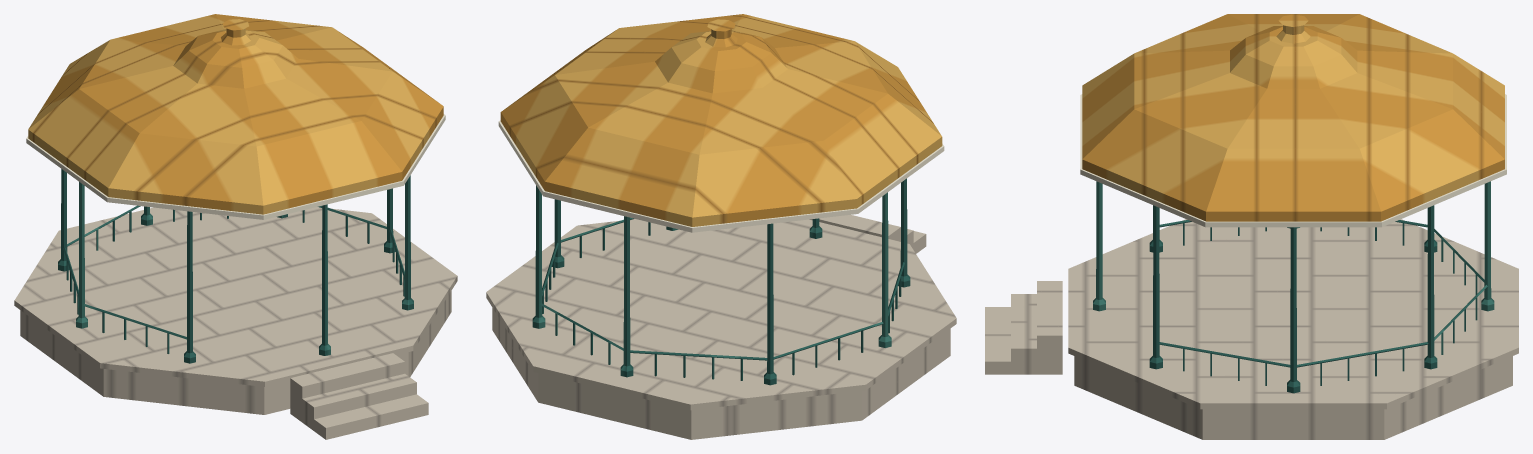
Rendered from Kiosco.fbx.
The picture shows the model from 3 angles, left to right: view 1: azimuth 30°, elevation 25°; view 2: azimuth 150°, elevation 25°; view 3: azimuth 270°, elevation 25°; orthographic projection. The views are drawn at different scales.
Visible parts, largest first — view 1: Base, Techo, Hierro; view 2: Base, Techo, Hierro; view 3: Base, Techo, Hierro.
Part boxes in pixels (x1,y1,x2,y2): Base: [14, 207, 457, 439]; Techo: [26, 14, 445, 219]; Hierro: [58, 169, 413, 363]; Base: [486, 215, 956, 439]; Techo: [498, 14, 944, 232]; Hierro: [532, 178, 910, 385]; Base: [985, 219, 1518, 439]; Techo: [1080, 14, 1506, 227]; Hierro: [1093, 181, 1494, 393].
Size of the model in its own units: 20.88 by 16.7 by 24.74.
Materials: 1 (1 with a texture image).
